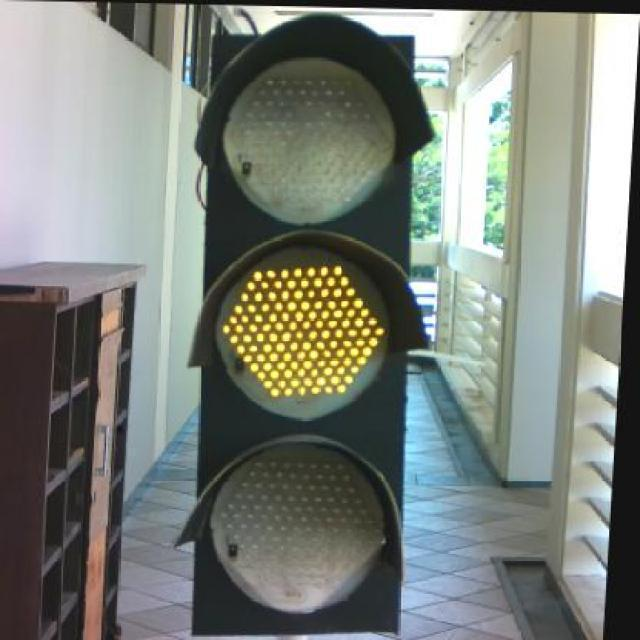yellow_light: (213, 30, 398, 639)
